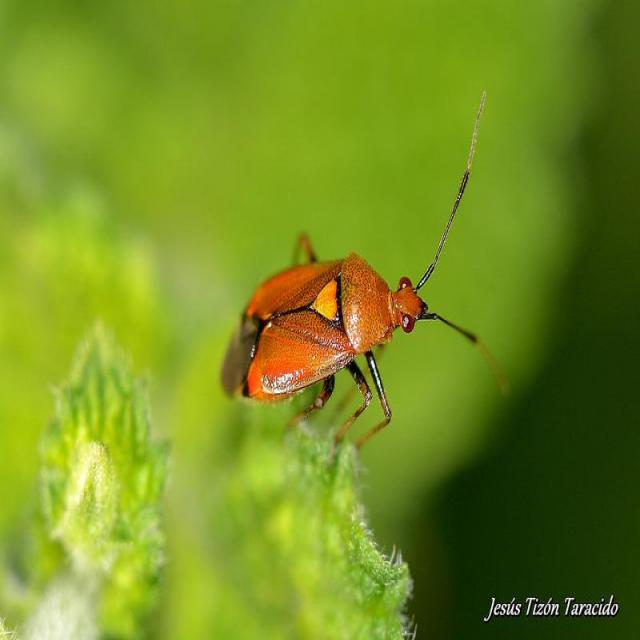Miridae-Adult-: (212, 158, 476, 452)
